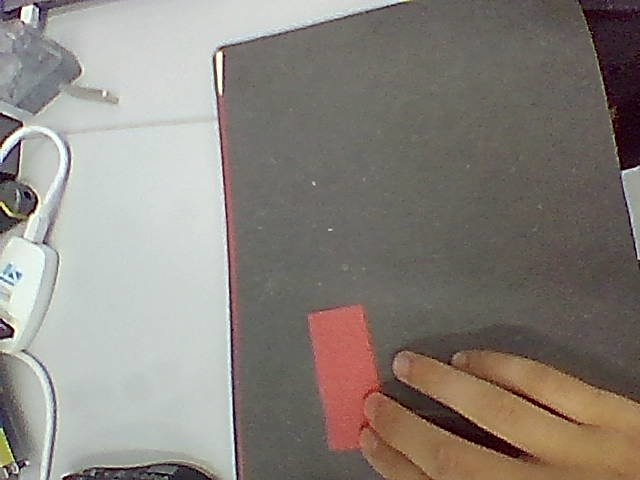card: (309, 305, 379, 450)
